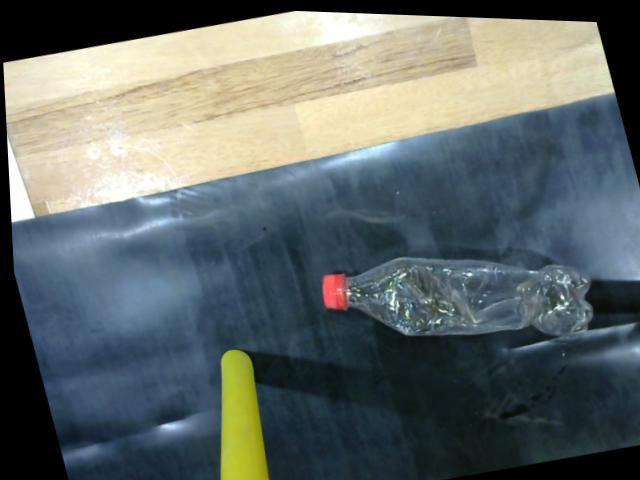bottle: (312, 243, 599, 343)
